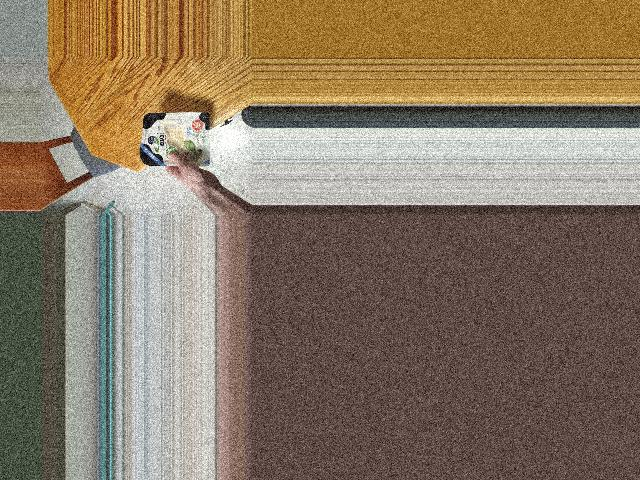cheese: (139, 113, 214, 170)
